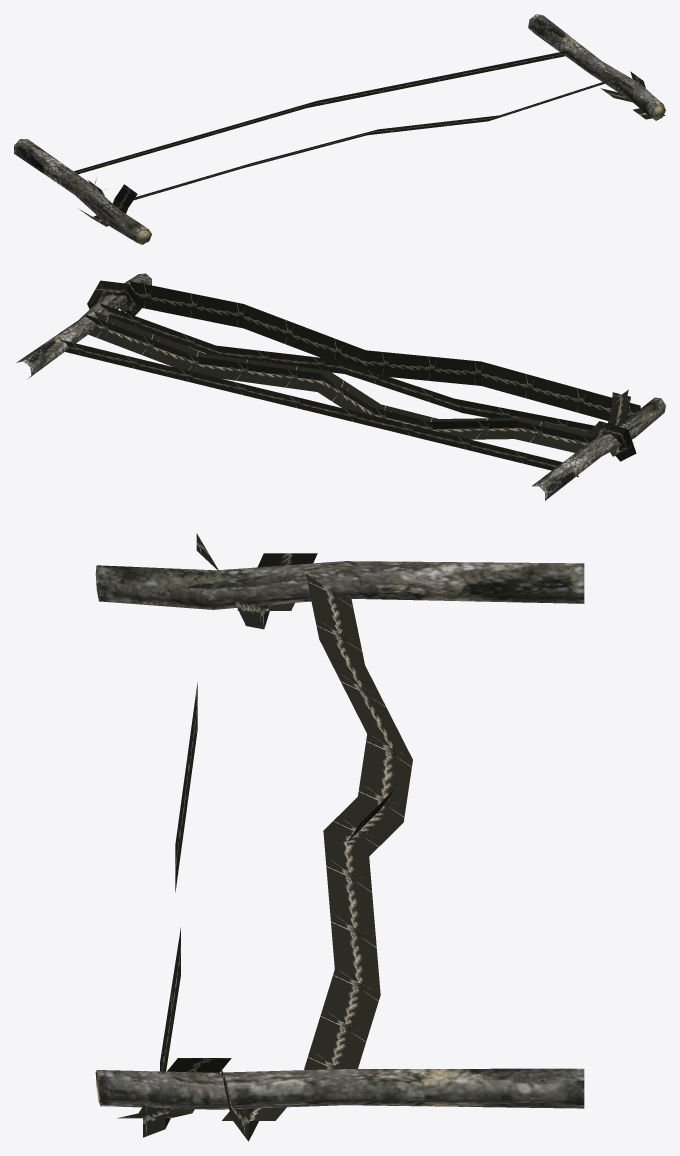
Rendered from caen_barbedwire_7.glb.
3 views of the same model, one above another, from view 1: azimuth 30°, elevation 25°; view 2: azimuth 150°, elevation 25°; view 3: azimuth 270°, elevation 25° (orthographic). The views are drawn at different scales.
Size of the model in its own units: 113 by 9.84 by 42.53.
1 material, 1 textured.
